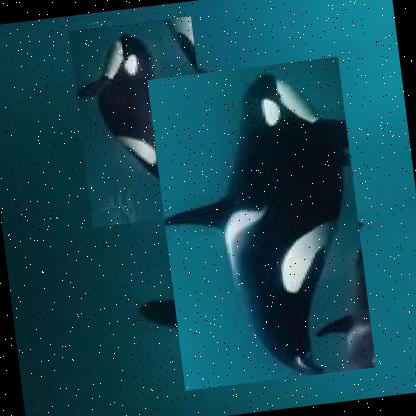killer_whale: (145, 56, 375, 392), (66, 16, 214, 228)
